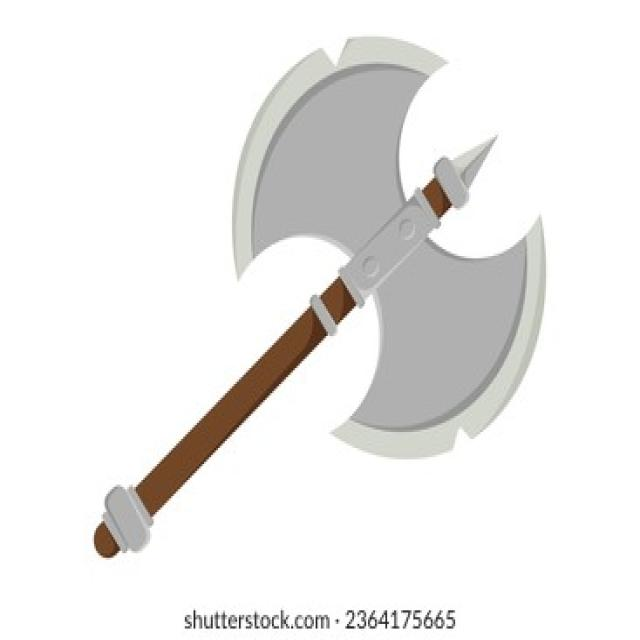Gun: (36, 25, 593, 591)
